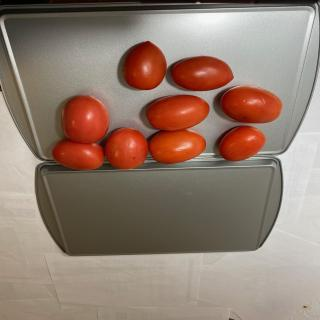Chilli: (51, 40, 283, 170)
Tomato: (60, 95, 110, 143), (146, 94, 210, 131), (220, 85, 282, 123), (172, 55, 234, 91), (122, 41, 167, 90), (148, 129, 206, 164), (105, 128, 148, 170), (219, 125, 266, 162), (51, 140, 105, 170)
